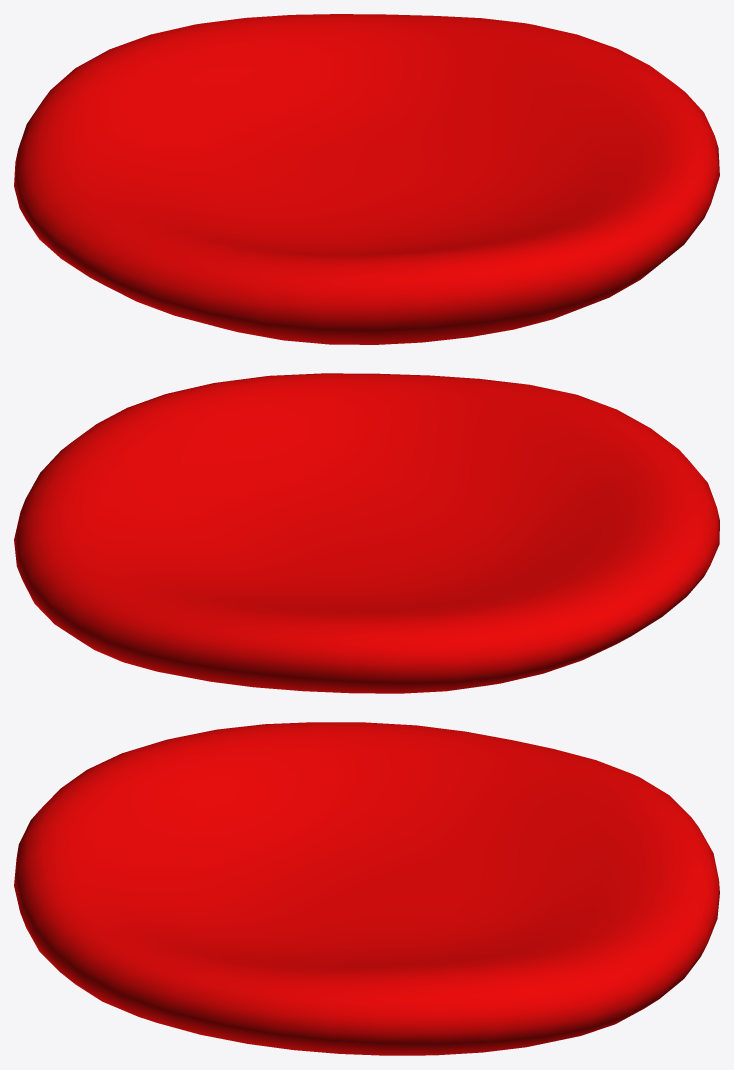
Rendered from MSH_Blood.fbx.
The picture shows the model from 3 angles, top to bottom: view 1: azimuth 30°, elevation 25°; view 2: azimuth 150°, elevation 25°; view 3: azimuth 270°, elevation 25°; orthographic projection. The views are drawn at different scales.
Parts seen in each view (by area): view 1: MSH_Blood; view 2: MSH_Blood; view 3: MSH_Blood.
Part boxes in pixels (x1,y1,x2,y2): MSH_Blood: [14, 14, 719, 344]; MSH_Blood: [14, 373, 719, 693]; MSH_Blood: [14, 722, 719, 1055].
Size of the model in its own units: 0.2882 by 0.2854 by 0.0609.
